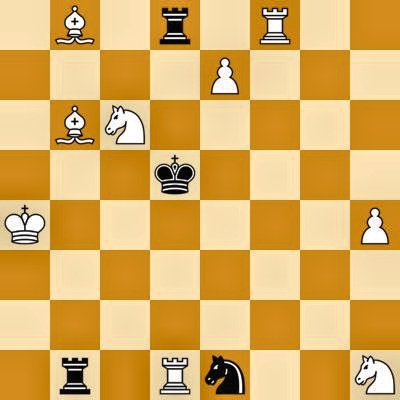black-king: (150, 150, 200, 200)
black-knight: (200, 350, 250, 400)
black-rook: (150, 0, 200, 50), (50, 350, 100, 400)
white-bishop: (50, 0, 100, 50), (50, 100, 100, 150)
white-king: (0, 200, 50, 250)
white-knight: (100, 100, 150, 150), (350, 350, 400, 400)
white-pawn: (200, 50, 250, 100), (350, 200, 400, 250)
white-rook: (250, 0, 300, 50), (150, 350, 200, 400)
